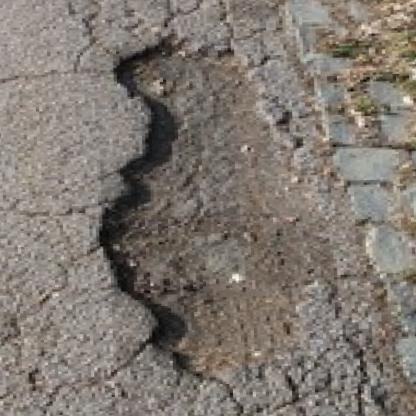pothole: (89, 30, 364, 391)
